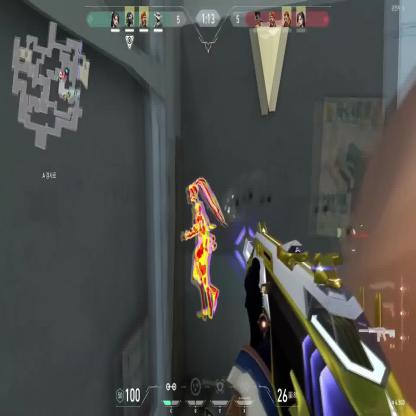enemy: (179, 175, 228, 320)
enemy_head: (188, 184, 197, 206)
